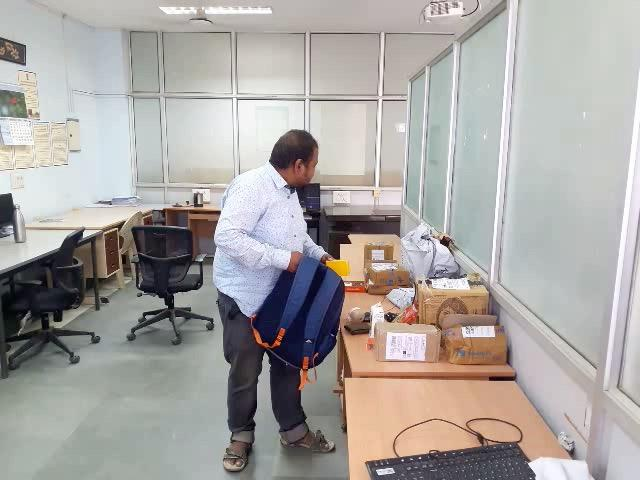shoplifting: (220, 222, 378, 410)
